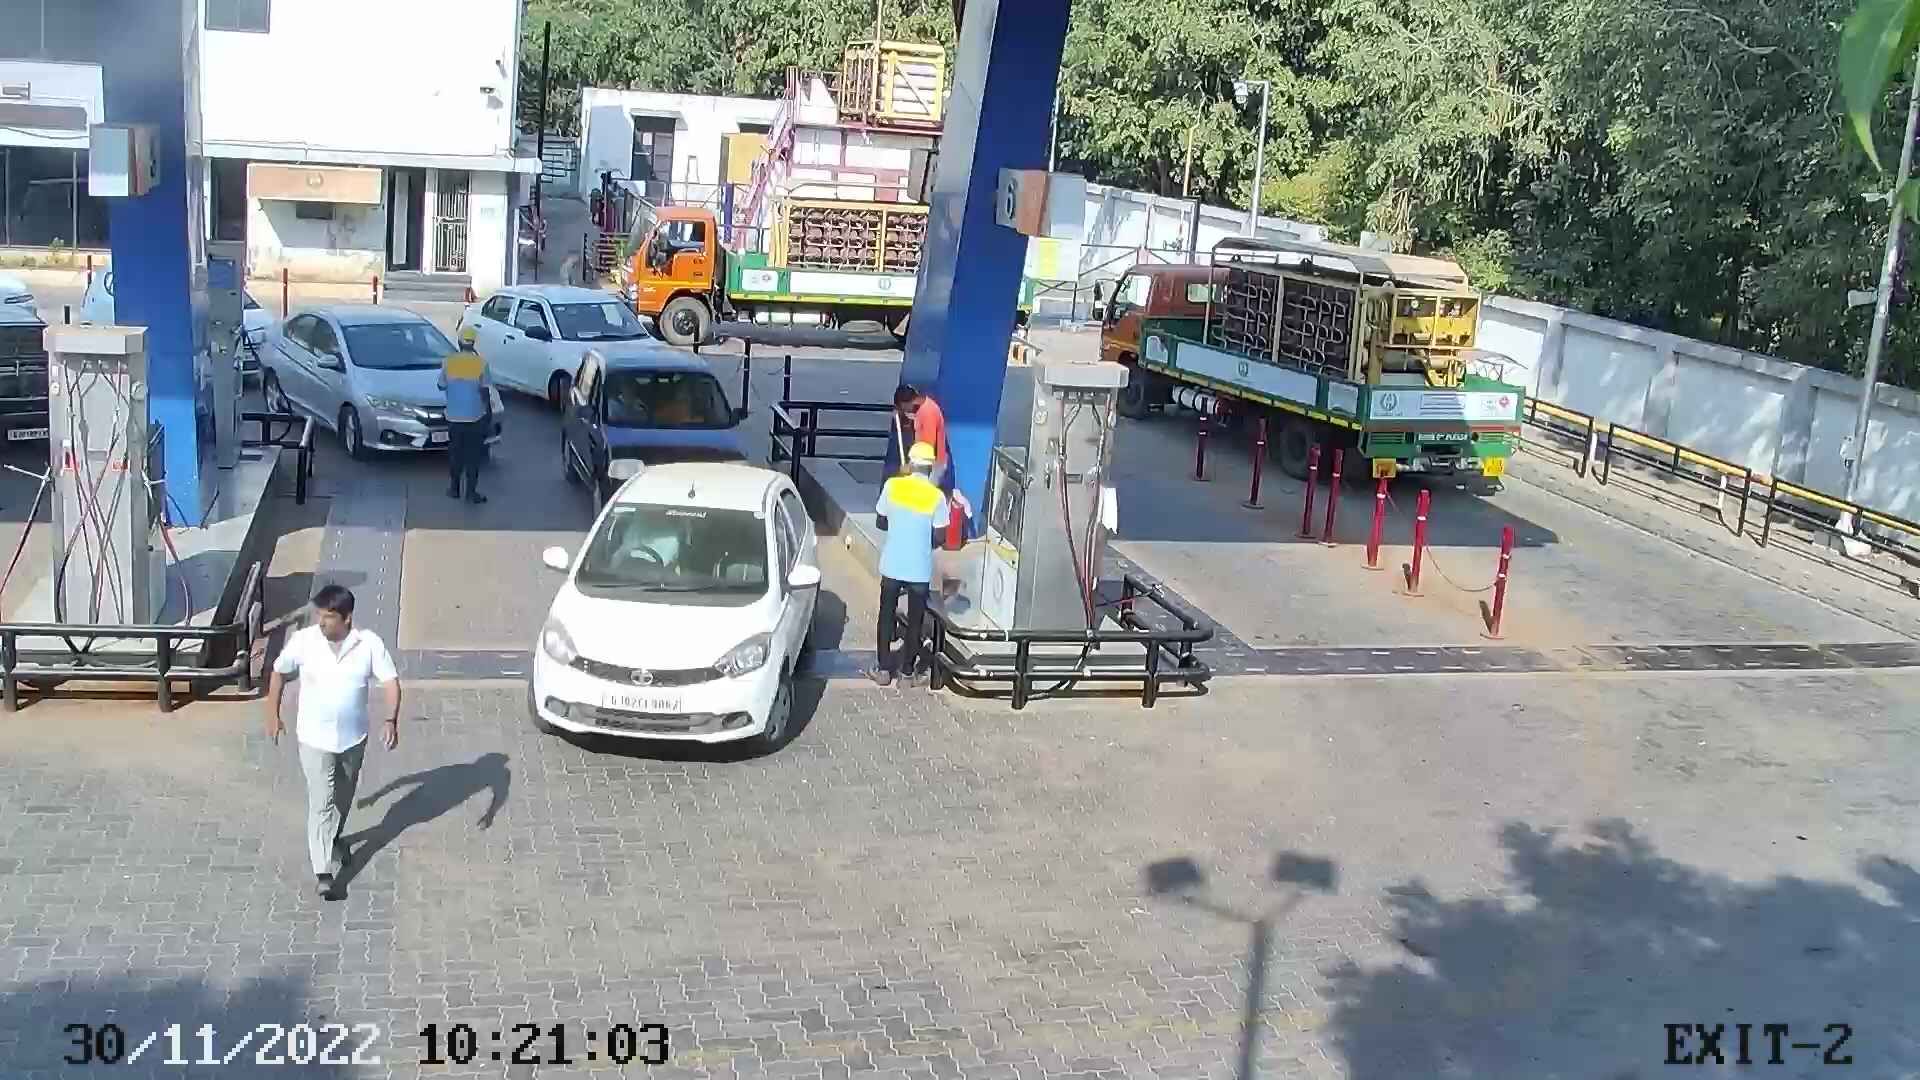Car: (516, 448, 829, 767), (251, 297, 513, 465), (553, 335, 754, 535), (440, 274, 679, 422), (0, 249, 75, 464), (232, 272, 287, 393)
HMV: (1089, 222, 1527, 500), (597, 164, 938, 351)
Others: (861, 440, 953, 692), (427, 318, 492, 512)
